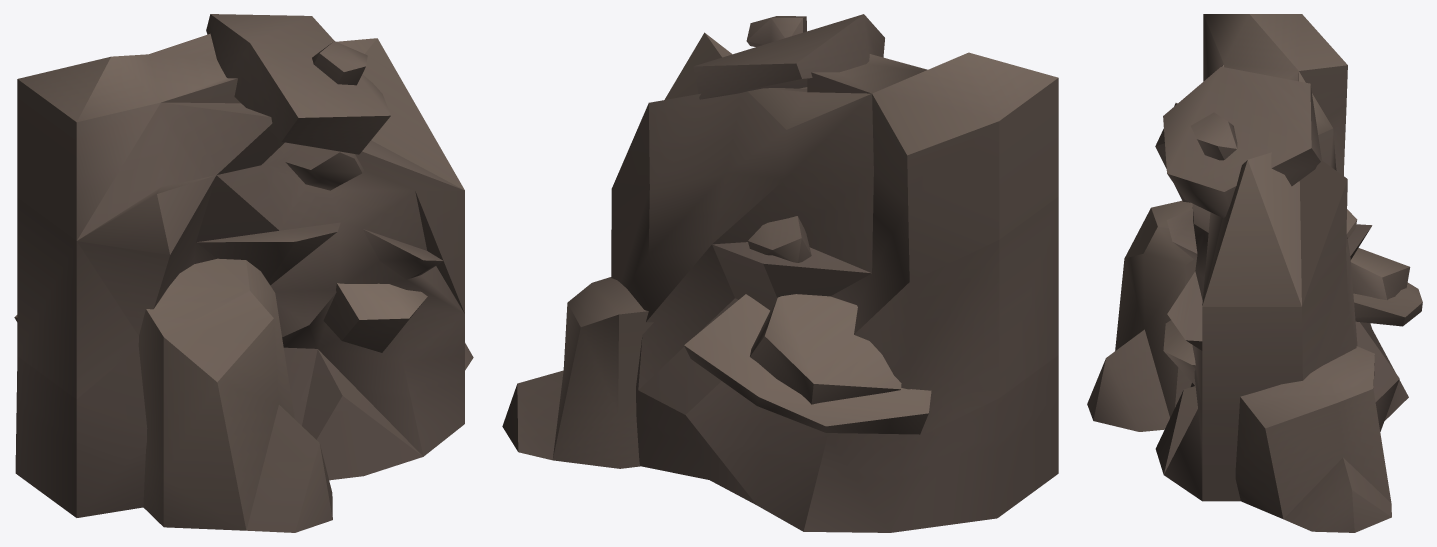
The model's file is rubble_half.obj.
The picture shows the model from 3 angles, left to right: view 1: azimuth 30°, elevation 25°; view 2: azimuth 150°, elevation 25°; view 3: azimuth 270°, elevation 25°; orthographic projection. The views are drawn at different scales.
Parts seen in each view (by area): view 1: rubble_half; view 2: rubble_half; view 3: rubble_half.
Boxes of the visible parts, x1,y1,x2,y2 form: rubble_half: (14, 14, 473, 532); rubble_half: (502, 14, 1058, 532); rubble_half: (1087, 14, 1422, 532).
Size of the model in its own units: 4 by 3.5 by 3.
1 material, 1 textured.
